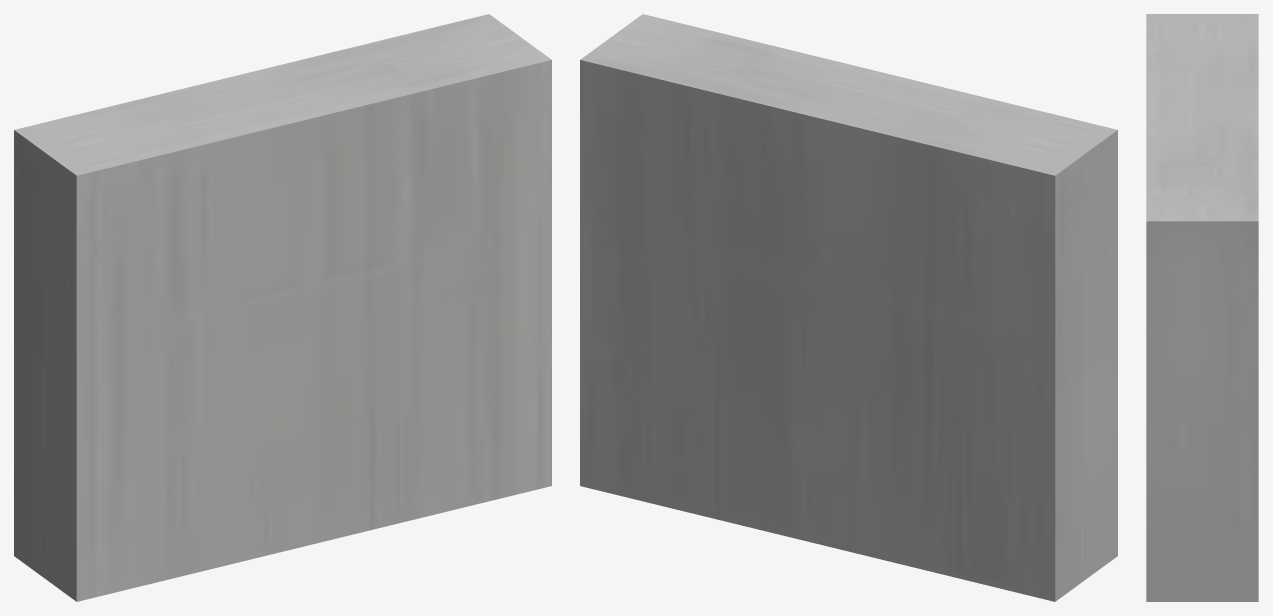
The model's file is frame__stage_support_bridge.glb.
The picture shows the model from 3 angles, left to right: view 1: azimuth 30°, elevation 25°; view 2: azimuth 150°, elevation 25°; view 3: azimuth 270°, elevation 25°; orthographic projection. The views are drawn at different scales.
Visible parts, largest first — view 1: geometry_0; view 2: geometry_0; view 3: geometry_0.
Part boxes in pixels (box(x1,y1,x2,y2)): geometry_0: box(14, 14, 551, 601); geometry_0: box(580, 14, 1117, 601); geometry_0: box(1146, 14, 1258, 601).
Size of the model in its own units: 0.07 by 0.06 by 0.016.
Materials: 1 (1 with a texture image).
